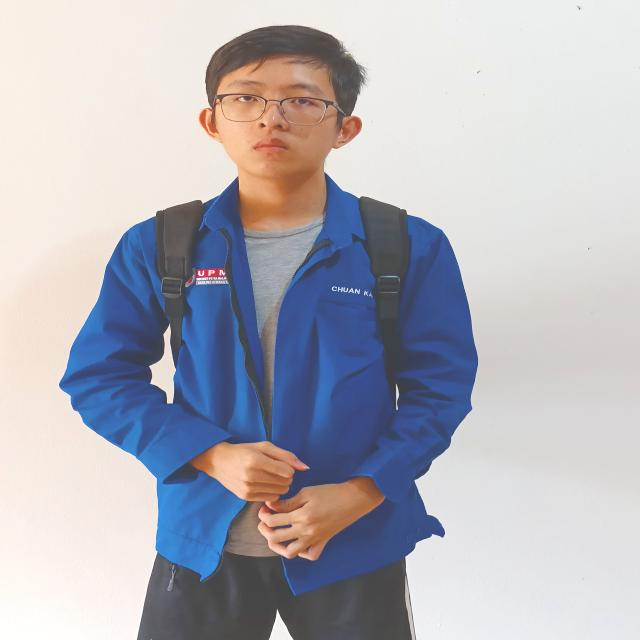person_with_labcoat: (60, 26, 477, 640)
